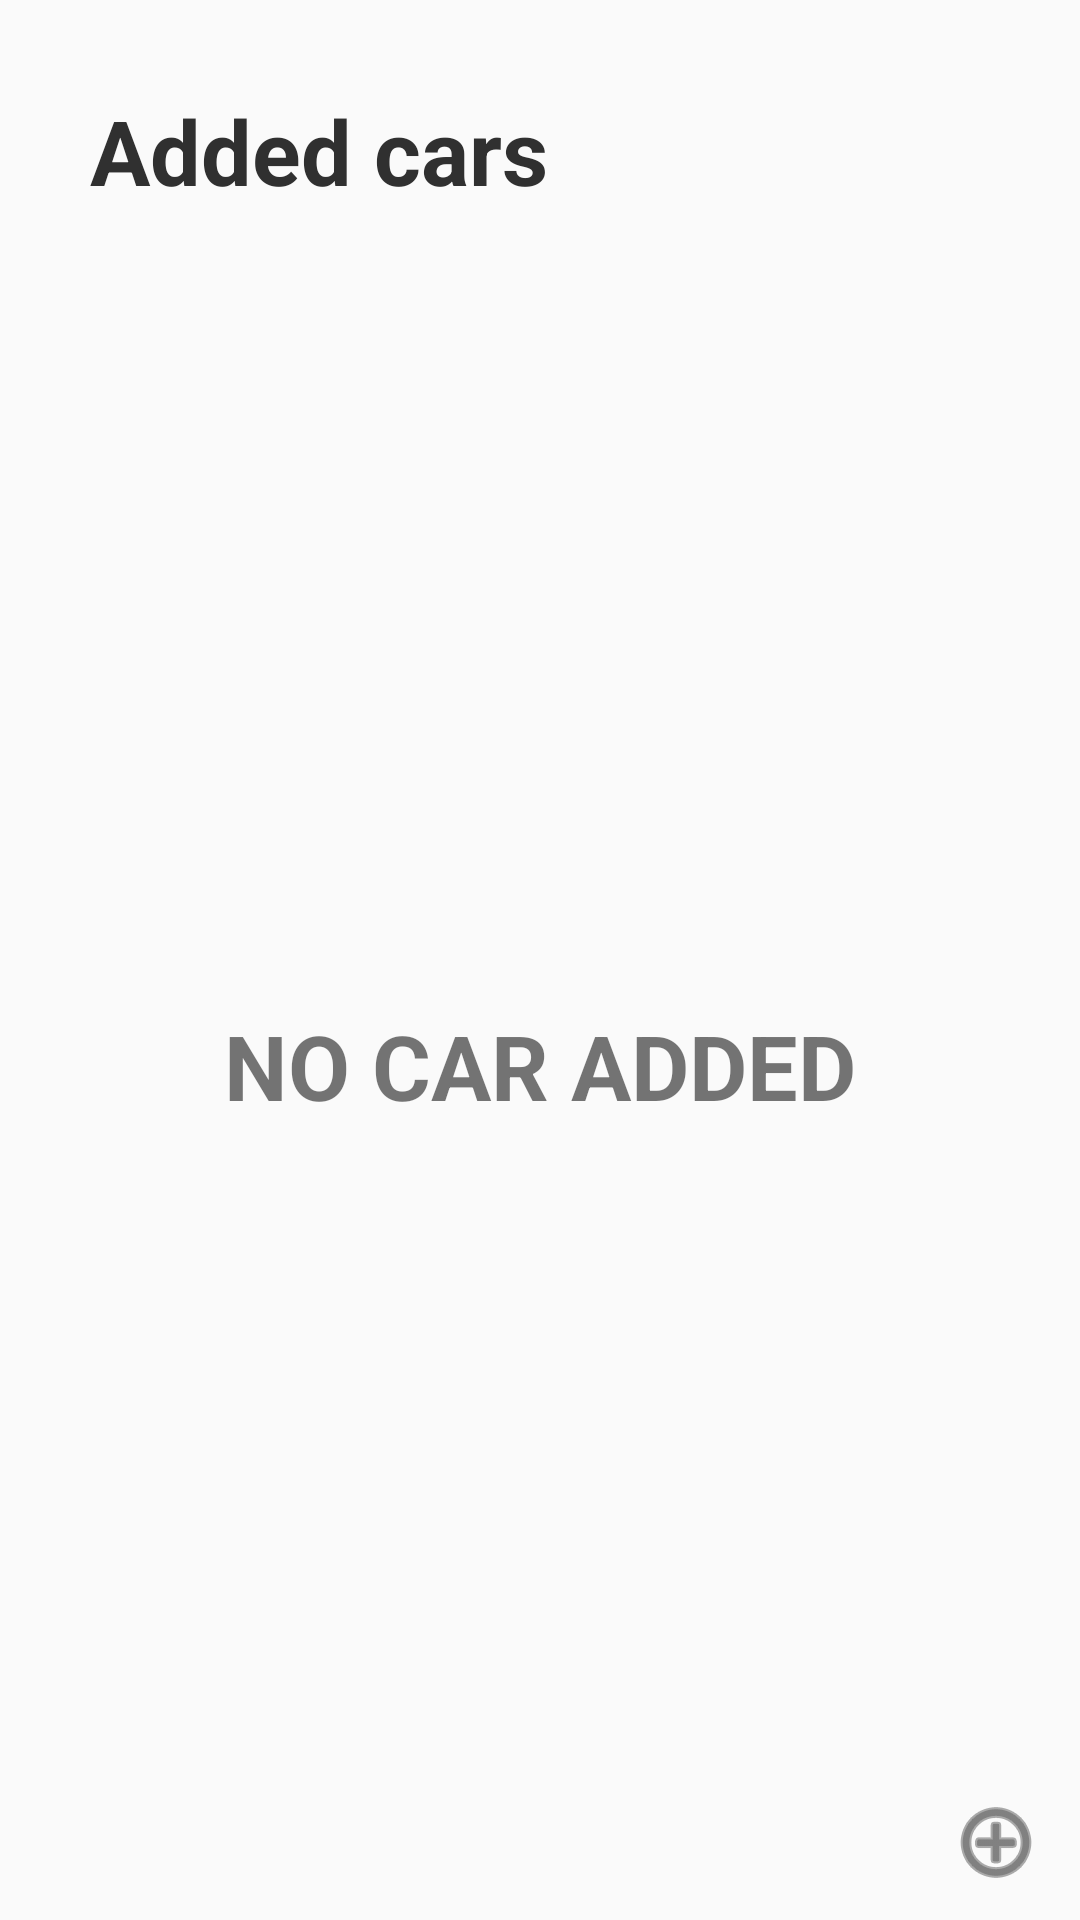

Where icons sit on this 1080 x 1920 app screen, as [x1,y1,x2,y2]:
add: [960,1807,1032,1878]
